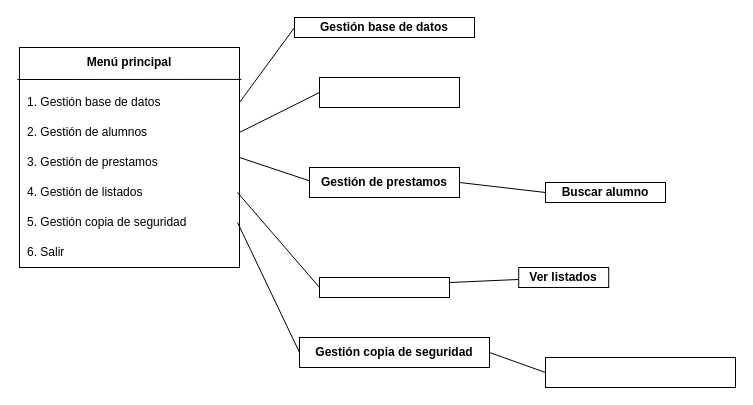
This 753x405 diagram has some shape labels left out. Here are the shapes that lost their labels. From the top down, the box of each, then its label:
(318, 76, 460, 108): Gestión de alumnos
(318, 276, 450, 298): Gestión de listados
(544, 356, 736, 388): Seleccionar datos a exportar
